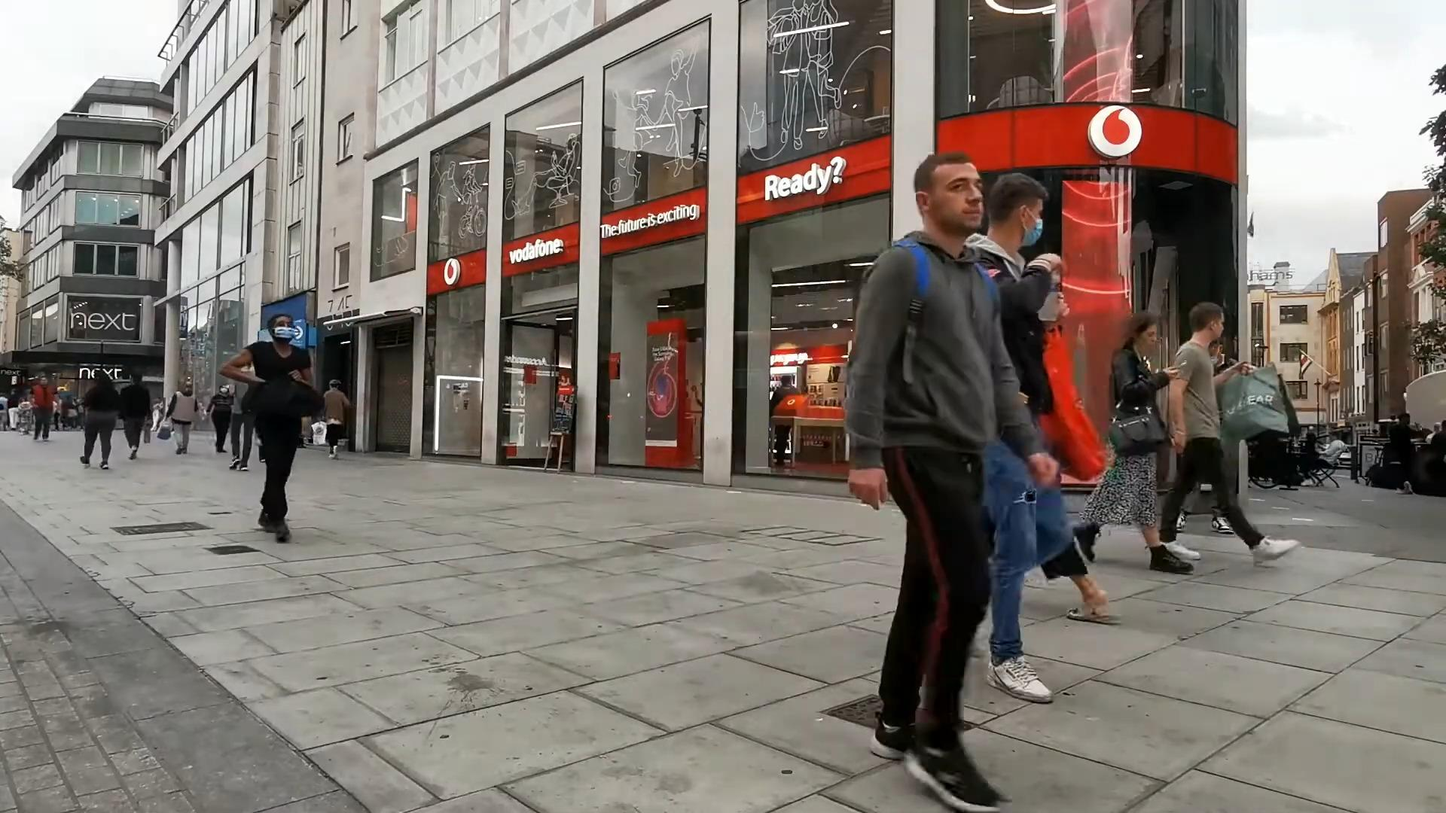no-helmet: (912, 151, 985, 234), (987, 171, 1050, 249), (1188, 300, 1226, 341), (1122, 311, 1159, 349), (266, 313, 296, 343)
